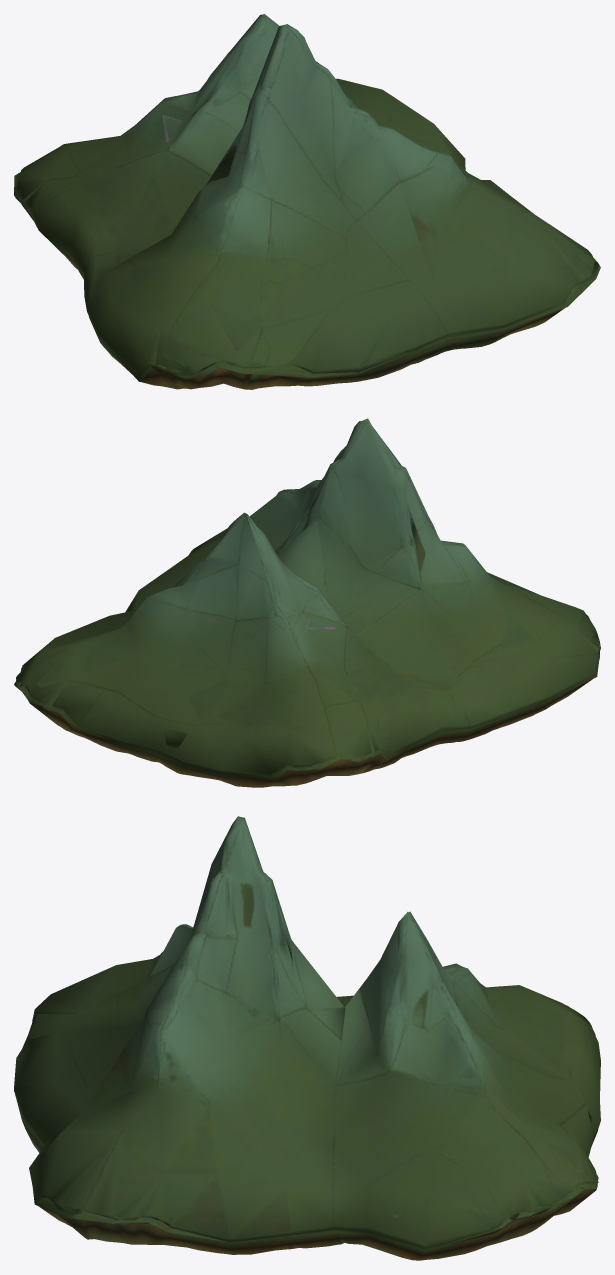
Rendered from mountain_ridge_b.glb.
3 views of the same model, one above another, from view 1: azimuth 30°, elevation 25°; view 2: azimuth 150°, elevation 25°; view 3: azimuth 270°, elevation 25° (orthographic). The views are drawn at different scales.
Parts seen in each view (by area): view 1: tripo_node_d10fc1d3-27cf-49c5-93bb-bdce557f2203; view 2: tripo_node_d10fc1d3-27cf-49c5-93bb-bdce557f2203; view 3: tripo_node_d10fc1d3-27cf-49c5-93bb-bdce557f2203.
Part boxes in pixels (bbox=[...]): tripo_node_d10fc1d3-27cf-49c5-93bb-bdce557f2203: bbox=[14, 14, 600, 389]; tripo_node_d10fc1d3-27cf-49c5-93bb-bdce557f2203: bbox=[14, 418, 600, 787]; tripo_node_d10fc1d3-27cf-49c5-93bb-bdce557f2203: bbox=[14, 816, 600, 1260].
Bounding box in the file's own units: 0.998 × 0.584 × 0.998.
1 material, 1 textured.
